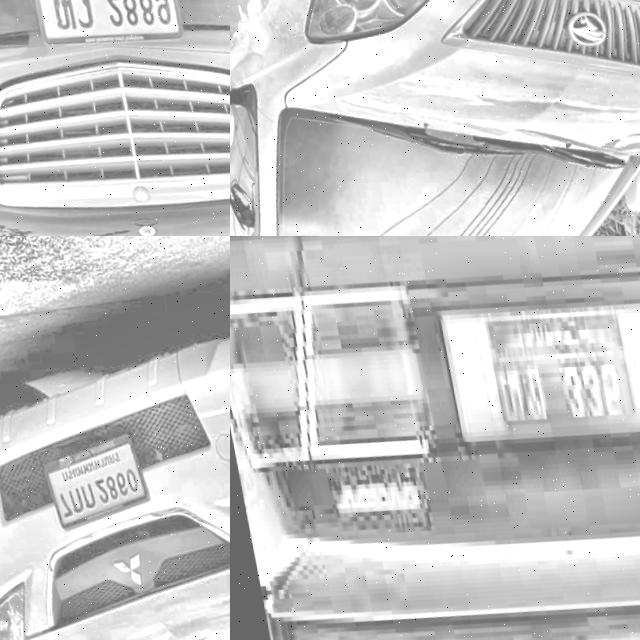license-plate: (428, 270, 640, 464), (37, 432, 148, 536), (22, 0, 190, 55)
